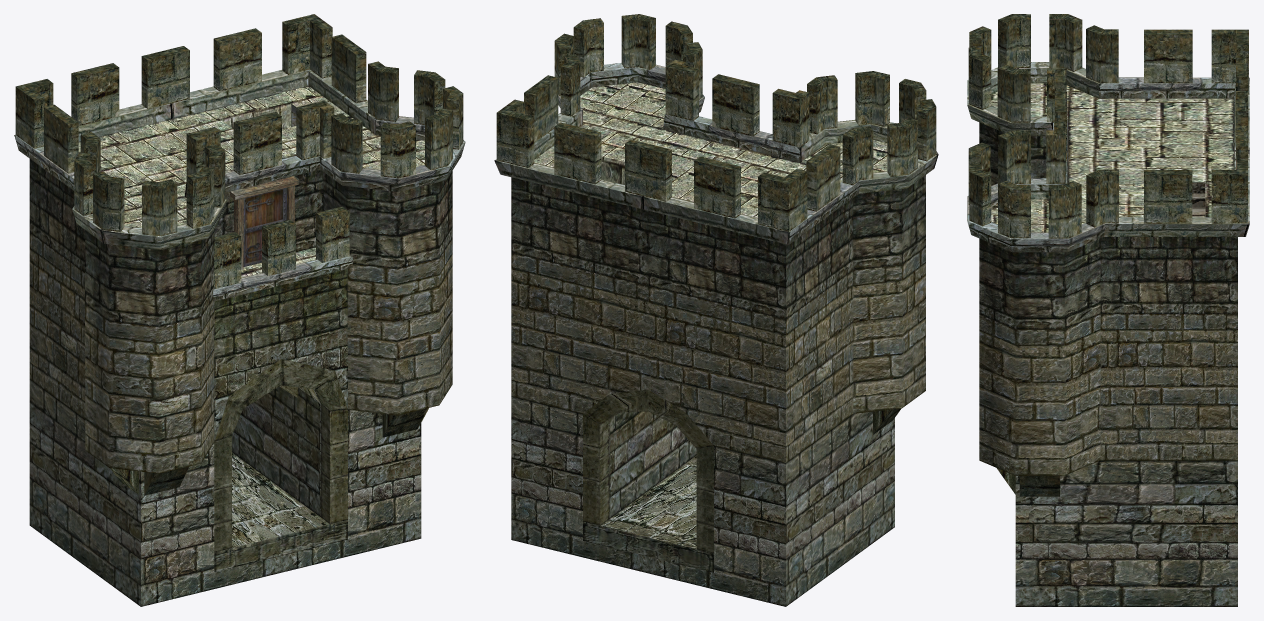
3 renders of one model, left to right at view 1: azimuth 30°, elevation 25°; view 2: azimuth 150°, elevation 25°; view 3: azimuth 270°, elevation 25°, orthographic.
Parts seen in each view (by area): view 1: cc54-col; view 2: cc54-col; view 3: cc54-col.
Part boxes in pixels (x1,y1,x2,y2): cc54-col: [14, 14, 465, 606]; cc54-col: [494, 14, 938, 606]; cc54-col: [967, 14, 1249, 606].
Bounding box in the file's own units: 10.4 × 11.93 × 6.99.
Materials: 19 (19 with a texture image).
